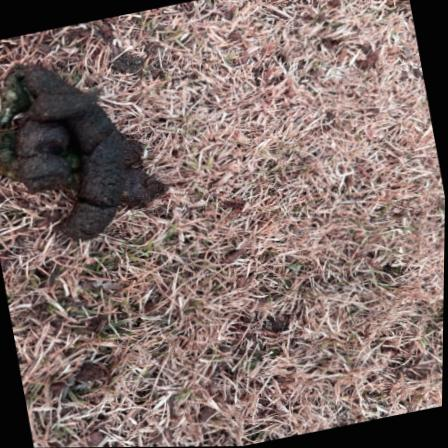dog-poop: (0, 33, 183, 254)
